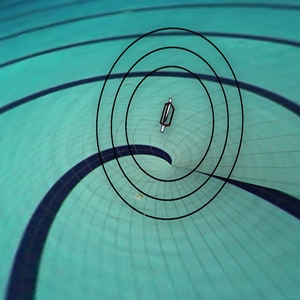circle: (78, 15, 268, 236)
submarine: (148, 95, 189, 142)
